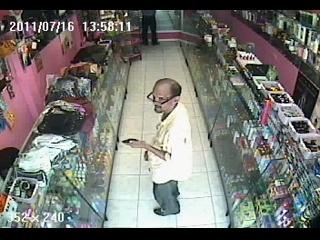Normal: (128, 78, 194, 216), (140, 10, 160, 46)
